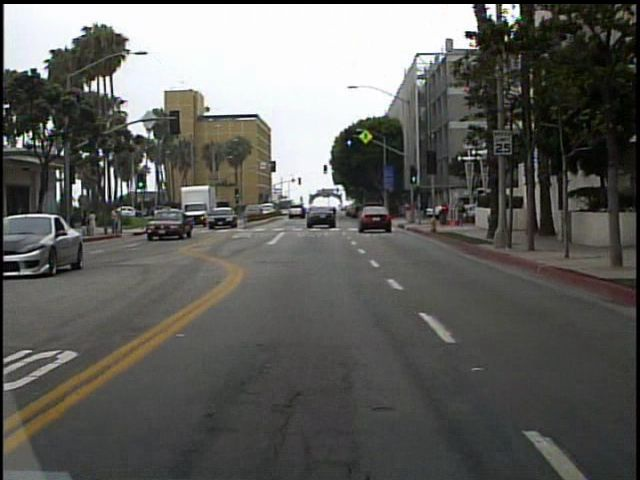person: (112, 204, 123, 238)
